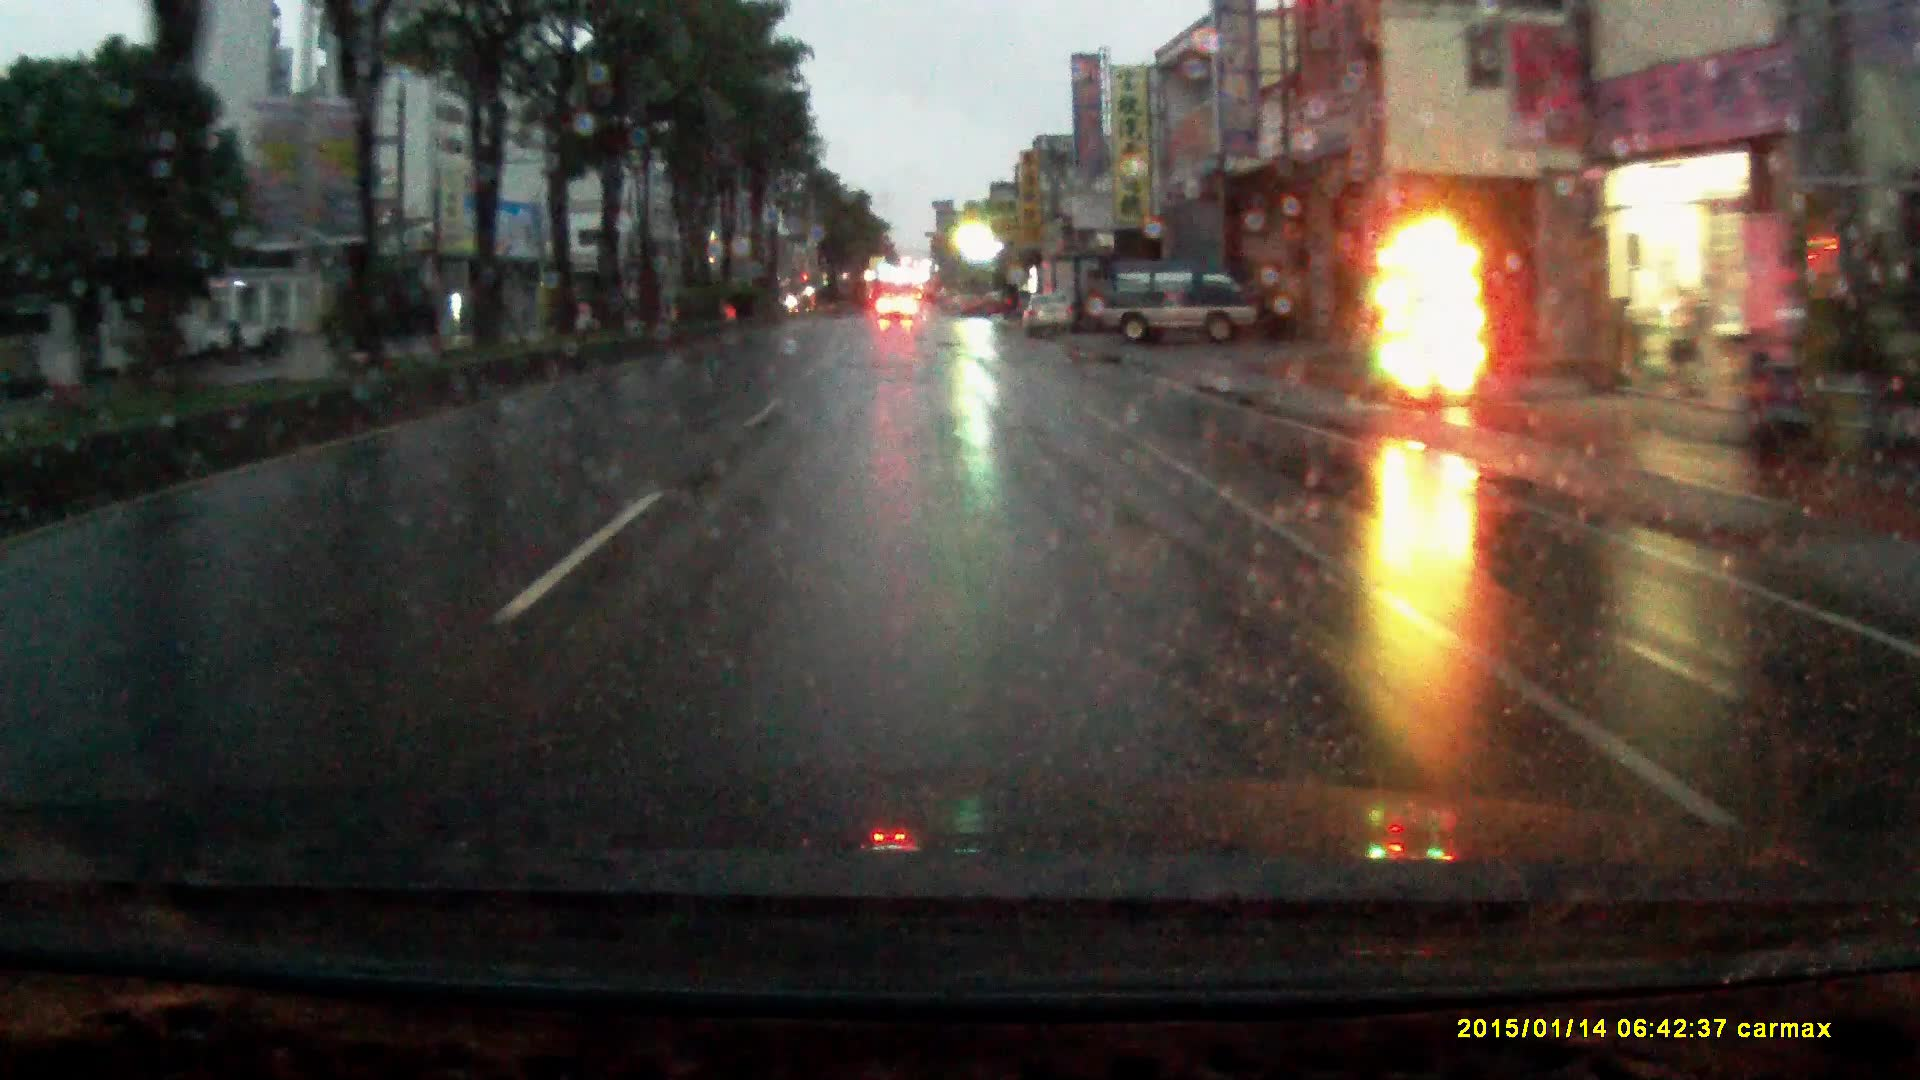vehicle: (1093, 266, 1269, 348), (1035, 247, 1106, 334), (1021, 295, 1077, 336), (877, 297, 919, 324)
